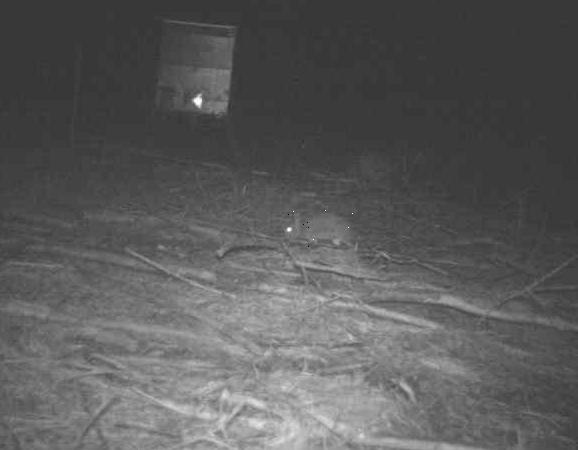Rabbit: (284, 211, 354, 252)
